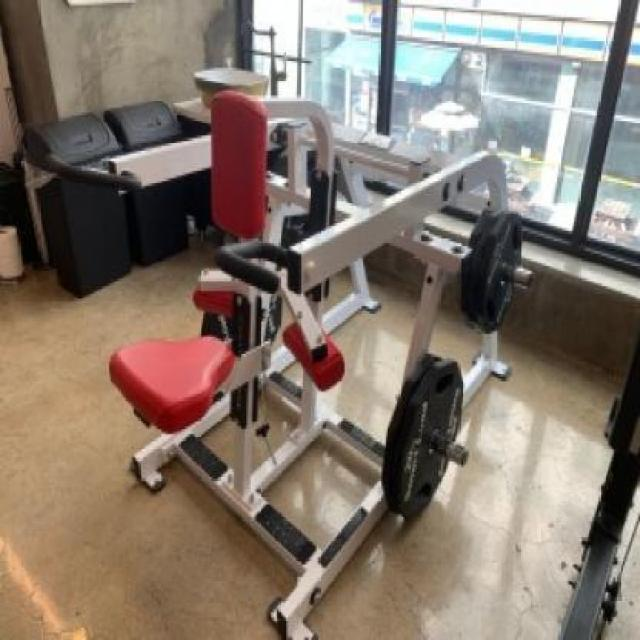seated dip machine: (44, 87, 532, 640)
